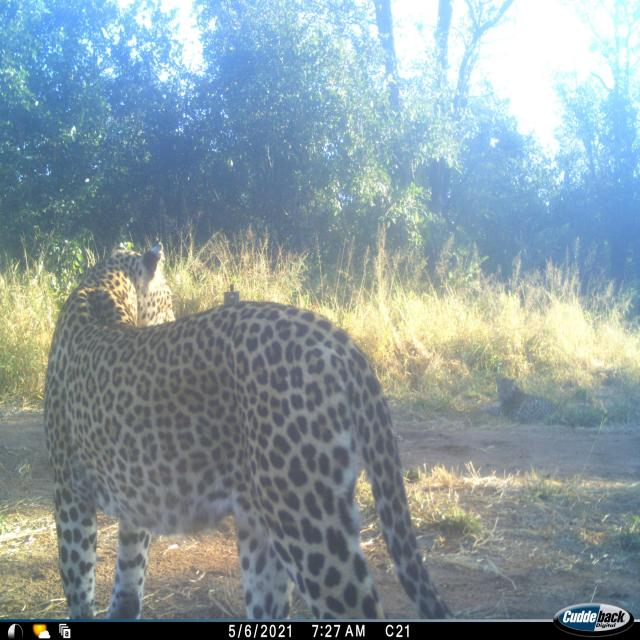Leopard: (32, 259, 529, 640)
